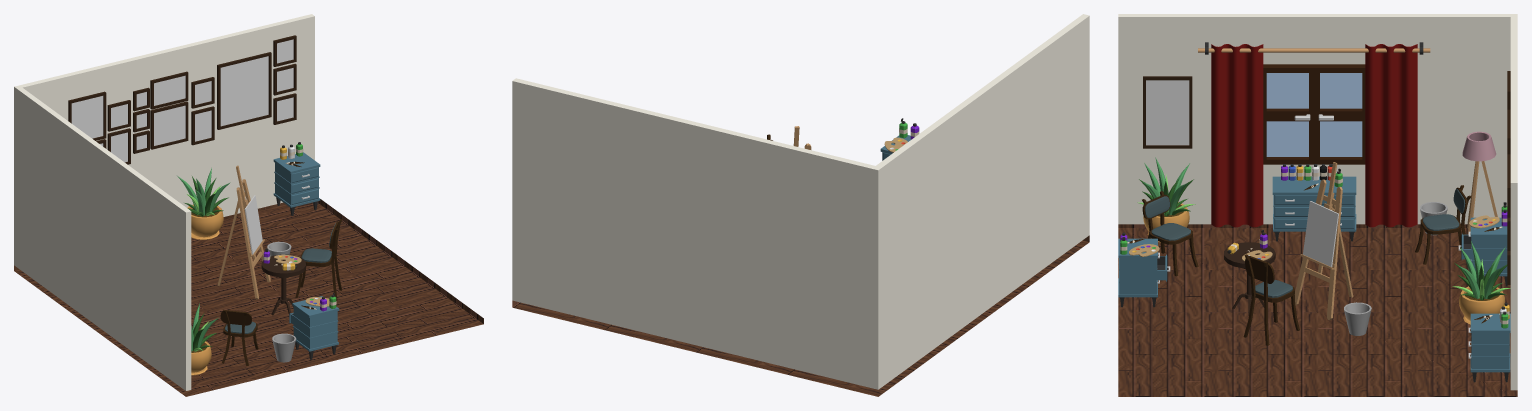
File: not-the-louvre-studio.glb
3 views of the same model, side by side, from view 1: azimuth 30°, elevation 25°; view 2: azimuth 150°, elevation 25°; view 3: azimuth 270°, elevation 25° (orthographic). The views are drawn at different scales.
Parts seen in each view (by area): view 1: Plane.001, Plane, Cube.038, art14, Cube.048, Cube.001, Cube.009, art3, Cube.045, art11, Cube.020, Cylinder.012 (+10 smaller); view 2: Plane.001, Plane, Cube.048; view 3: Plane, Plane.001, Cube.023, Cube.024, Cube.022, Cube.043, Cube.005, Cube.048, Cube.001, Cube.009, Cube.007, main_canvas (+15 smaller).
Part boxes in pixels (x1,y1,x2,y2): Plane.001: (14, 14, 314, 390); Plane: (14, 199, 483, 396); Cube.038: (68, 35, 296, 164); art14: (220, 56, 268, 126); Cube.048: (289, 292, 339, 359); Cube.001: (273, 152, 320, 215); Cube.009: (217, 165, 270, 299); art3: (71, 96, 103, 138); Cube.045: (220, 309, 258, 365); art11: (154, 105, 185, 145); Cube.020: (191, 303, 218, 375); Cylinder.012: (261, 254, 305, 315); Plane.001: (512, 14, 1089, 389); Plane: (512, 235, 1089, 396); Cube.048: (880, 118, 919, 160); Plane: (1118, 224, 1517, 396); Plane.001: (1118, 14, 1517, 390); Cube.023: (1263, 64, 1365, 164); Cube.024: (1365, 44, 1417, 227); Cube.022: (1211, 44, 1263, 227); Cube.043: (1143, 76, 1192, 148); Cube.005: (1272, 176, 1356, 241); Cube.048: (1118, 232, 1170, 307); Cube.001: (1468, 313, 1510, 382); Cube.009: (1294, 162, 1353, 320); Cube.007: (1458, 217, 1507, 286); main_canvas: (1303, 201, 1338, 266).
Bounding box in the file's own units: 3.76 × 2.22 × 3.76.
Materials: 35 (1 with a texture image).
